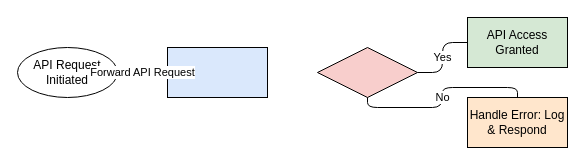
Some shapes in this 585 by 165 pixel diagram are drawn without their labels. The shapes that lost their labels are listed below. From the top down, each one's centre as x and y in pixels, then its label:
[217,72]: Validate Token
[367,72]: Is Token Valid?
